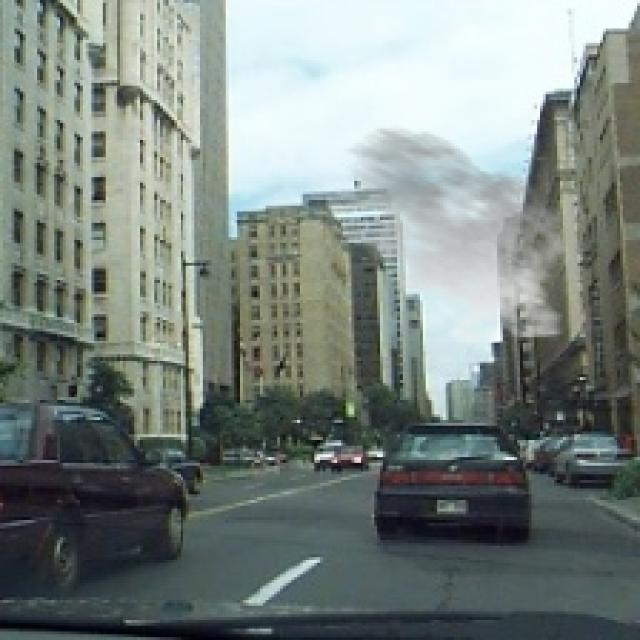smoke: (326, 126, 577, 346)
